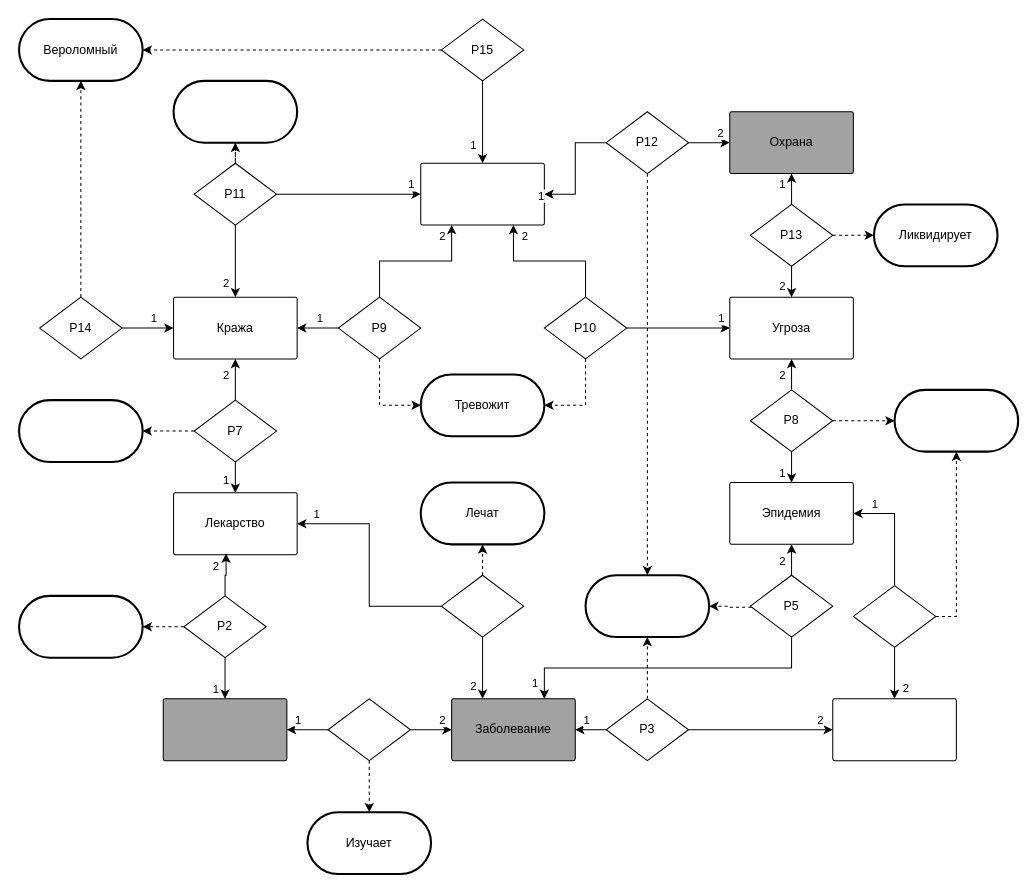
Some shapes in this 1036 by 892 pixel diagram are drawn without their labels. The centre of each missing label's shape, as x and y in pixels:
"P1" belongs at [368,729].
"P4" belongs at [482,605].
"P6" belongs at [894,616].
"Вызываeт" belongs at [647,606].
"Медицина" belongs at [224,729].
"Подвержены" belongs at [80,430].
"Приводит" belongs at [956,420].
"Разрабатывает" belongs at [80,626].
"Смерть" belongs at [894,729].
"Совершает" belongs at [235,111].
"Человек" belongs at [482,193].
